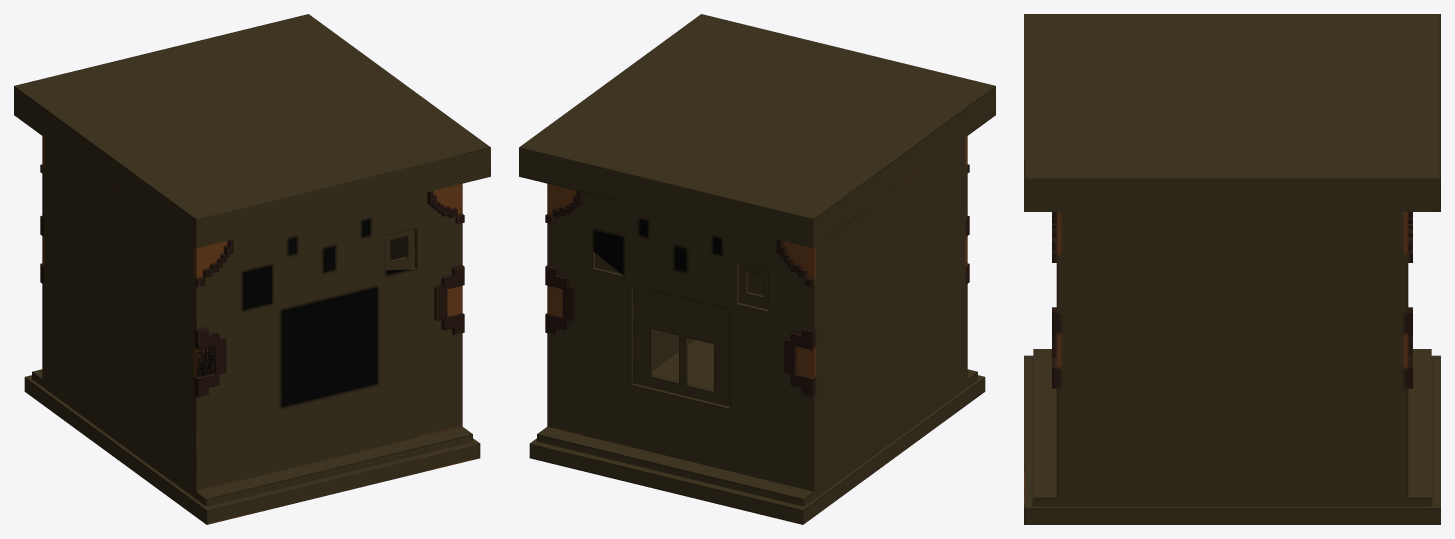
Rendered from 2sided (1).fbx.
The picture shows the model from 3 angles, left to right: view 1: azimuth 30°, elevation 25°; view 2: azimuth 150°, elevation 25°; view 3: azimuth 270°, elevation 25°; orthographic projection. The views are drawn at different scales.
Visible parts, largest first — view 1: untitled.003; view 2: untitled.003; view 3: untitled.003.
Boxes of the visible parts, box(x1,y1,x2,y2) form: untitled.003: box(14, 14, 490, 524); untitled.003: box(519, 14, 995, 524); untitled.003: box(1024, 14, 1440, 524).
Bounding box in the file's own units: 210 × 210 × 225.
1 material, 1 textured.
